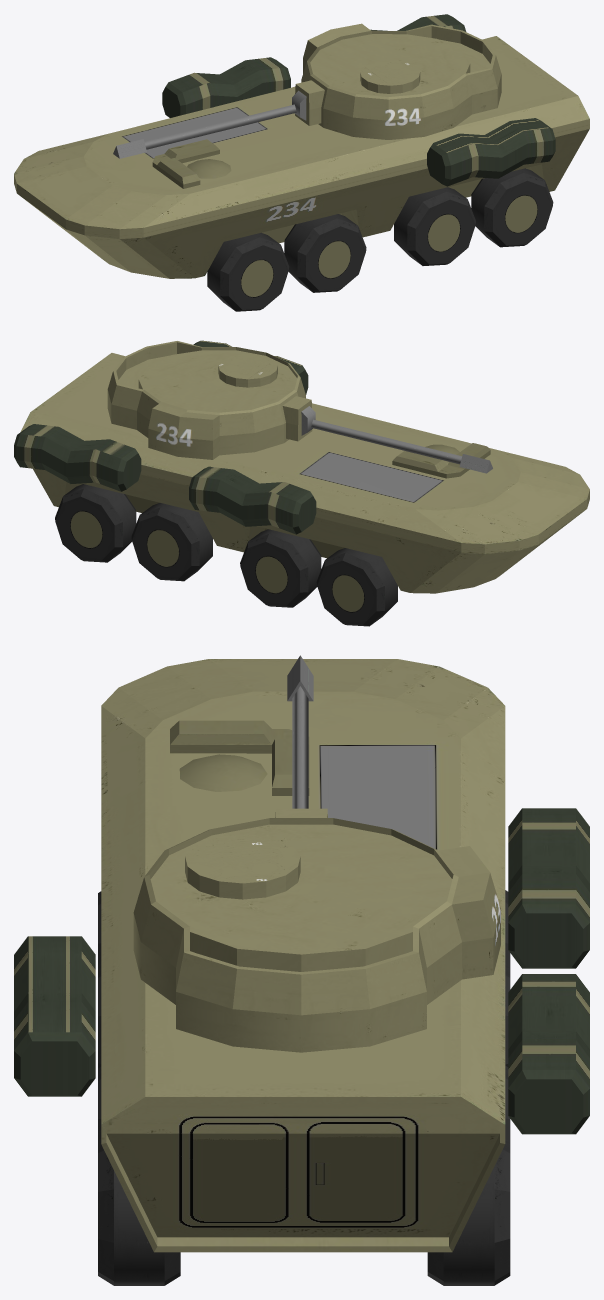
File: motopexota ogon.FBX
3 views of the same model, one above another, from view 1: azimuth 30°, elevation 25°; view 2: azimuth 150°, elevation 25°; view 3: azimuth 270°, elevation 25° (orthographic). The views are drawn at different scales.
Visible parts, largest first — view 1: Box002, Cylinder027, Cylinder044, Cylinder045, Cylinder046, Cylinder020, Cylinder029; view 2: Box002, Cylinder027, Cylinder050, Cylinder048, Cylinder049, Cylinder047, Cylinder029; view 3: Box002, Cylinder027, Cylinder050, Cylinder045, Cylinder029.
Boxes of the visible parts, x1,y1,x2,y2 form: Box002: (14,14,589,278); Cylinder027: (295,23,501,139); Cylinder044: (284,214,366,292); Cylinder045: (471,168,553,247); Cylinder046: (394,187,475,265); Cylinder020: (207,232,289,311); Cylinder029: (113,90,306,158); Box002: (14,340,589,593); Cylinder027: (107,341,312,459); Cylinder050: (55,484,136,562); Cylinder048: (240,529,321,607); Cylinder049: (131,503,212,581); Cylinder047: (316,548,397,626); Cylinder029: (301,406,492,473); Box002: (14,659,589,1252); Cylinder027: (133,808,500,1052); Cylinder050: (427,1138,510,1285); Cylinder045: (98,1139,180,1285); Cylinder029: (287,655,313,808).
Bounding box in the file's own units: 77.86 × 25.92 × 40.67.
